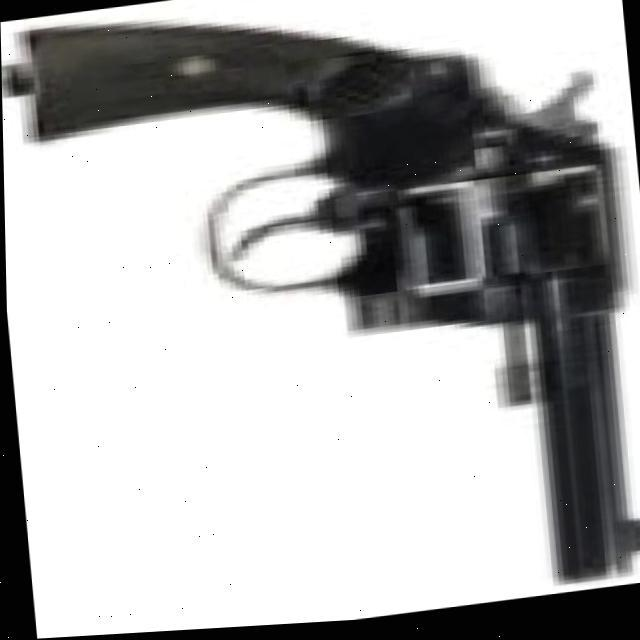gun: (21, 0, 640, 639)
